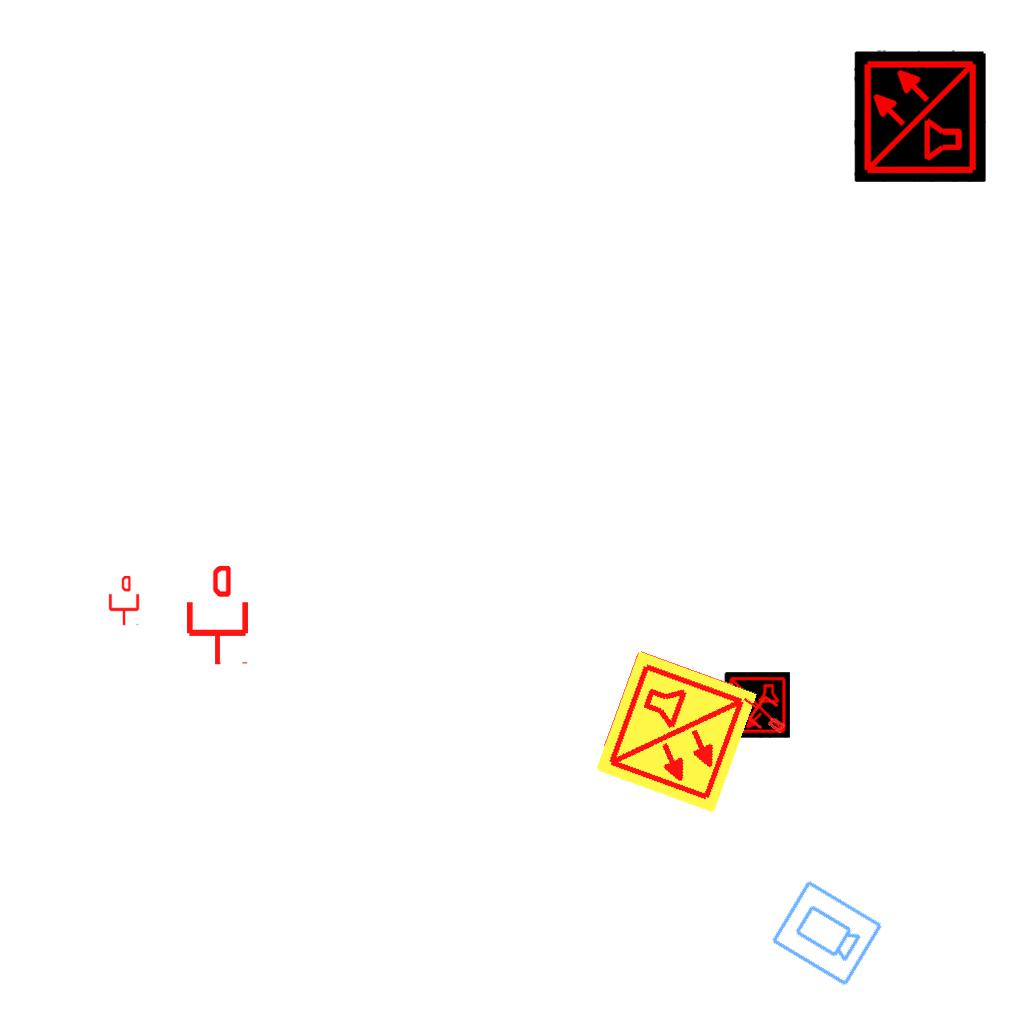Datenanschluss_einfach: (183, 566, 252, 666), (733, 684, 795, 742), (107, 576, 141, 626)
KFO_Kamera_mit_Festobjektiv: (767, 877, 886, 990)
OKW_Multisensormelder_(Kombination_optischer_Rauch-Kahlenmonoxid_Waerme-Melder): (591, 647, 761, 817), (854, 50, 986, 182), (724, 672, 790, 738)
